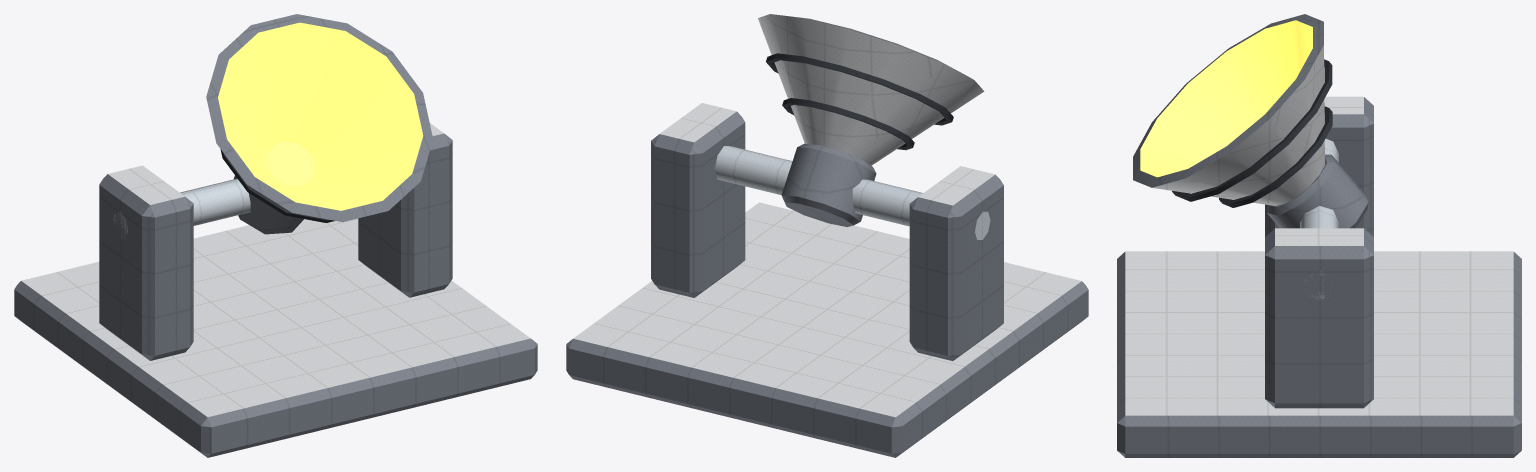
File: R4X_DeployableAmplifier_LOD1.glb
3 renders of one model, left to right at view 1: azimuth 30°, elevation 25°; view 2: azimuth 150°, elevation 25°; view 3: azimuth 270°, elevation 25°, orthographic. The views are drawn at different scales.
Parts seen in each view (by area): view 1: R4X_DeployableAmplifier_LOD1; view 2: R4X_DeployableAmplifier_LOD1; view 3: R4X_DeployableAmplifier_LOD1.
Boxes of the visible parts, bbox=[...] form: R4X_DeployableAmplifier_LOD1: bbox=[14, 14, 537, 457]; R4X_DeployableAmplifier_LOD1: bbox=[566, 14, 1088, 457]; R4X_DeployableAmplifier_LOD1: bbox=[1117, 14, 1521, 457].
Bounding box in the file's own units: 0.52 × 0.4855 × 0.52.
5 materials, 4 textured.
